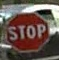stop: (2, 11, 50, 52)
